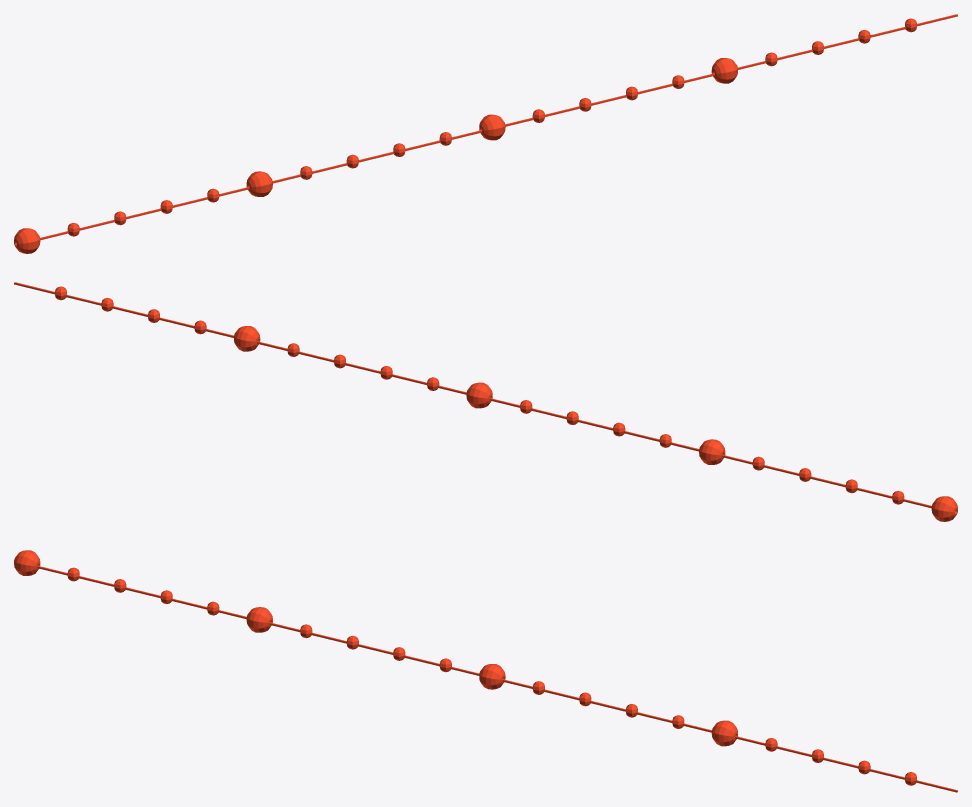
File: SM_Buoy_Line_A_City.fbx
3 views of the same model, one above another, from view 1: azimuth 30°, elevation 25°; view 2: azimuth 150°, elevation 25°; view 3: azimuth 330°, elevation 25° (orthographic).
Visible parts, largest first — view 1: SM_Buoy_Line_A_City; view 2: SM_Buoy_Line_A_City; view 3: SM_Buoy_Line_A_City.
Boxes of the visible parts, x1=… form: SM_Buoy_Line_A_City: x1=14, y1=14, x2=957, y2=253; SM_Buoy_Line_A_City: x1=14, y1=282, x2=957, y2=521; SM_Buoy_Line_A_City: x1=14, y1=550, x2=957, y2=792.
Bounding box in the file's own units: 20.24 × 0.4998 × 0.4753.
